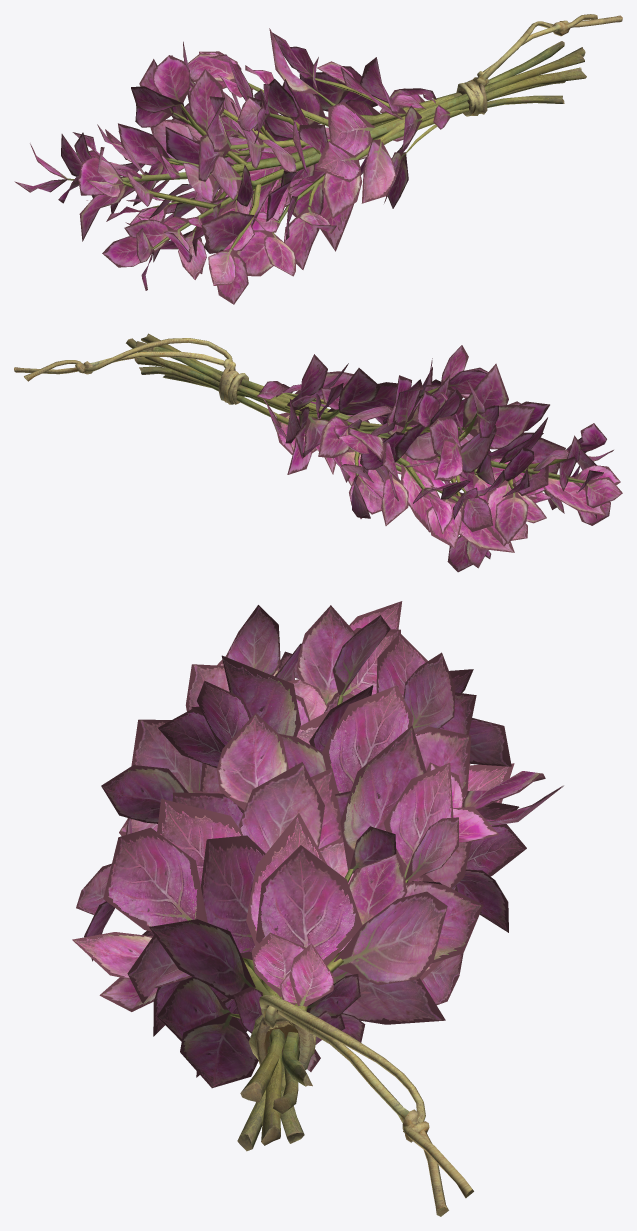
The model's file is sm70_052_redherbitem01a.fbx.
3 renders of one model, top to bottom at view 1: azimuth 30°, elevation 25°; view 2: azimuth 150°, elevation 25°; view 3: azimuth 270°, elevation 25°, orthographic. The views are drawn at different scales.
Parts seen in each view (by area): view 1: LOD_1_Group_1_Sub_1__sm70_052_RedHerbItem01A_A_Mat__Env_6f8a, LOD_1_Group_0_Sub_1__sm70_052_RedHerbItem01A_A_Mat__Env_Defa; view 2: LOD_1_Group_1_Sub_1__sm70_052_RedHerbItem01A_A_Mat__Env_6f8a, LOD_1_Group_0_Sub_1__sm70_052_RedHerbItem01A_A_Mat__Env_Defa; view 3: LOD_1_Group_1_Sub_1__sm70_052_RedHerbItem01A_A_Mat__Env_6f8a, LOD_1_Group_0_Sub_1__sm70_052_RedHerbItem01A_A_Mat__Env_Defa.
Boxes of the visible parts, x1,y1,x2,y2 form: LOD_1_Group_1_Sub_1__sm70_052_RedHerbItem01A_A_Mat__Env_6f8a: [14, 28, 586, 304]; LOD_1_Group_0_Sub_1__sm70_052_RedHerbItem01A_A_Mat__Env_Defa: [456, 14, 622, 116]; LOD_1_Group_1_Sub_1__sm70_052_RedHerbItem01A_A_Mat__Env_6f8a: [126, 333, 622, 572]; LOD_1_Group_0_Sub_1__sm70_052_RedHerbItem01A_A_Mat__Env_Defa: [14, 338, 248, 404]; LOD_1_Group_1_Sub_1__sm70_052_RedHerbItem01A_A_Mat__Env_6f8a: [72, 601, 563, 1151]; LOD_1_Group_0_Sub_1__sm70_052_RedHerbItem01A_A_Mat__Env_Defa: [249, 995, 473, 1216].
Size of the model in its own units: 0.6361 by 0.2115 by 0.2323.
